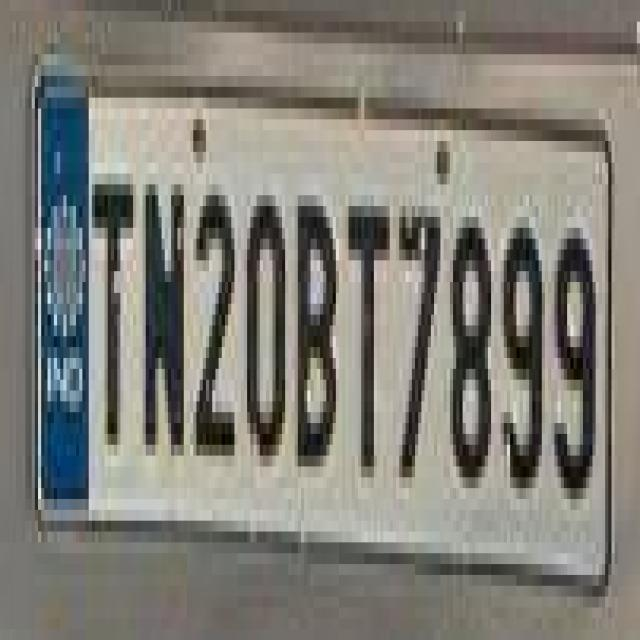license_plate: (0, 11, 621, 586)
